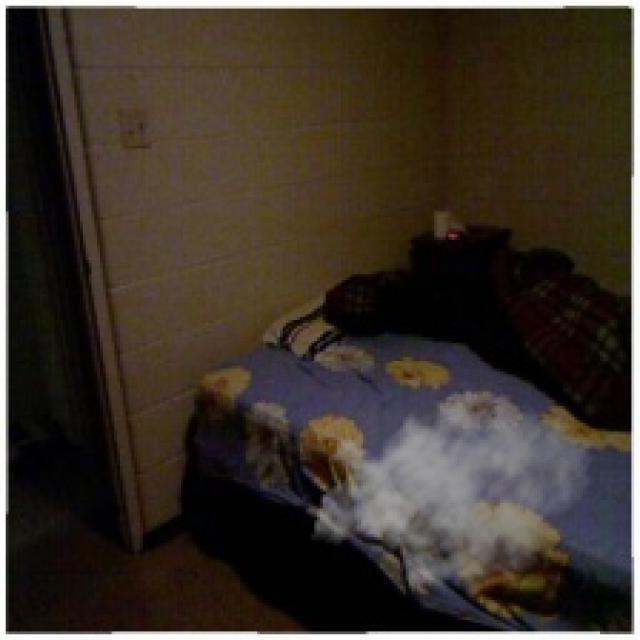Smoke: (312, 380, 594, 597)
